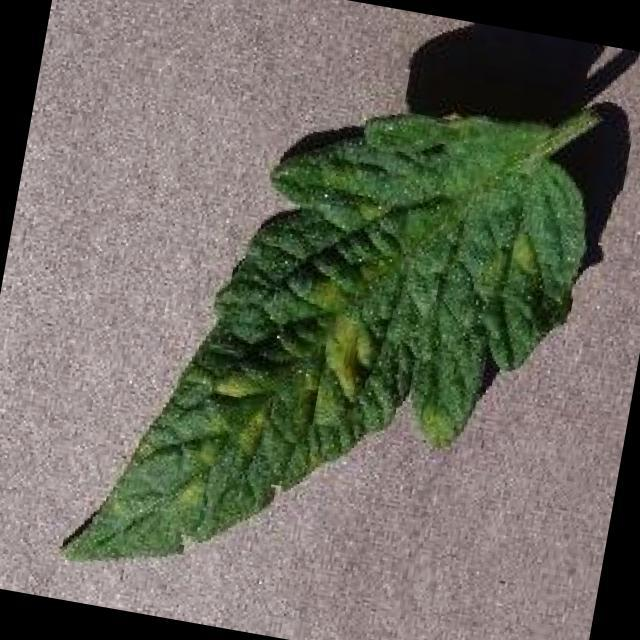Tomato mold leaf: (61, 55, 606, 639)
